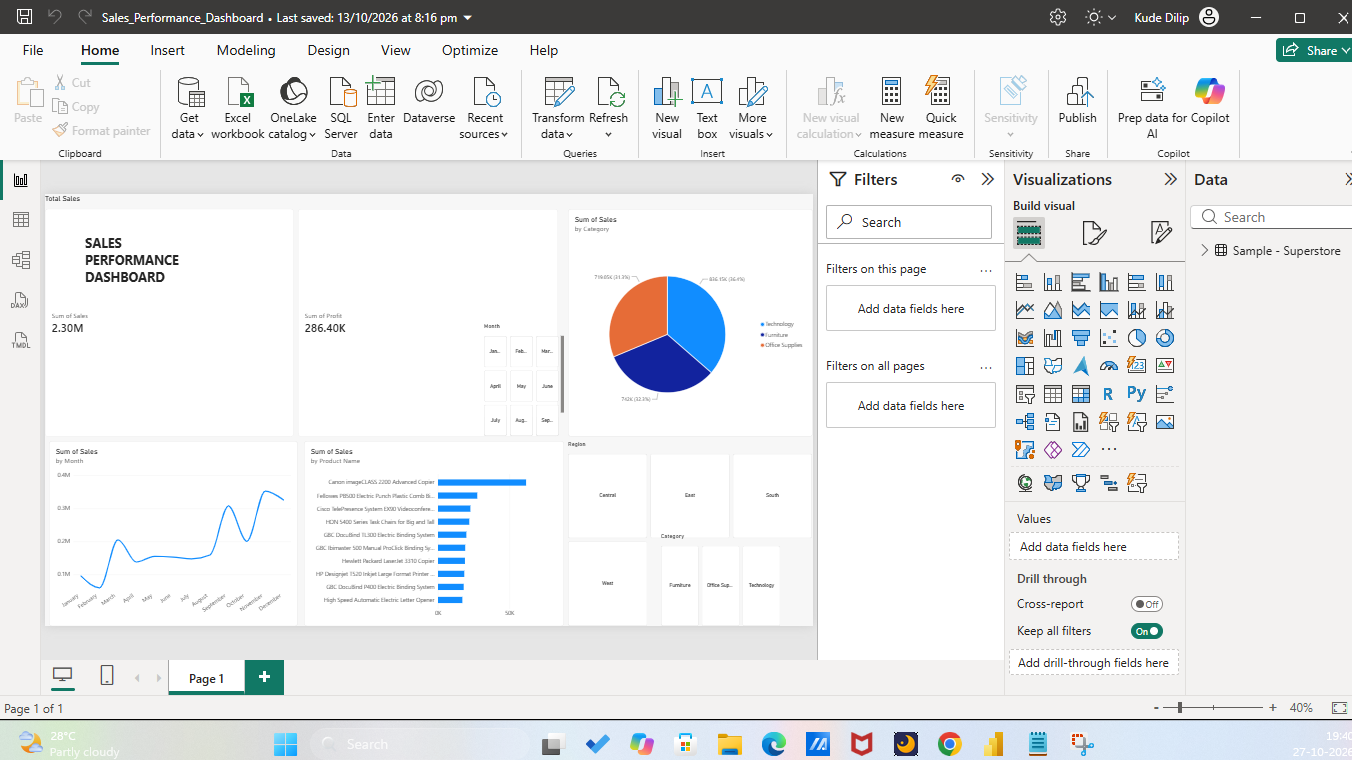

The dashboard page shown, as its layout file describes it:
{"tool":"powerbi","page":{"name":"Page 1","canvas":[1920,1080],"ordinal":0},"visuals":[{"type":"cardVisual","title":"Total Sales","fields":{"Data":["Sum(Sample - Superstore.Sales)"]},"box":[0,0,622.4,607.2],"z":0},{"type":"cardVisual","fields":{"Data":["Sum(Sample - Superstore.Profit)"]},"box":[631.7,38.3,650.1,569.4],"z":1},{"type":"lineChart","fields":{"Category":["Sample - Superstore.Order Date.Variation.Date Hierarchy.Year","Sample - Superstore.Order Date.Variation.Date Hierarchy.Month"],"Y":["Sum(Sample - Superstore.Sales)"]},"box":[10,617,622,463],"z":2},{"type":"clusteredBarChart","fields":{"Category":["Sample - Superstore.Product Name"],"Y":["Sum(Sample - Superstore.Sales)"]},"box":[648,617,650,463],"z":3},{"type":"pieChart","fields":{"Category":["Sample - Superstore.Category"],"Y":["Sum(Sample - Superstore.Sales)"]},"box":[1308,38,612,569],"z":4},{"type":"advancedSlicerVisual","fields":{"Values":["Sample - Superstore.Region"]},"box":[1308,617,612,463],"z":5},{"type":"advancedSlicerVisual","fields":{"Values":["Sample - Superstore.Category"]},"box":[1540,847.5,300,232.5],"z":6},{"type":"advancedSlicerVisual","fields":{"Values":["Sample - Superstore.Order Date.Variation.Date Hierarchy.Month"]},"box":[1097.5,322.5,200,284.3],"z":7},{"type":"textbox","box":[100,100,306.7,300],"z":8}]}

Visuals, with their boxes on the page's 1920x1080 design canvas (x1, y1, x2, y2). These are canvas units, not pixel positions in the 1352x760 screenshot, which may show the page scaled, cropped or inside an application window:
"Total Sales" cardVisual: pyautogui.locateOnScreen(0, 0, 622, 607)
cardVisual - Sum(Sample - Superstore.Profit): pyautogui.locateOnScreen(632, 38, 1282, 608)
lineChart - Sample - Superstore.Order Date.Variation.Date Hierarchy.Year x Sample - Superstore.Order Date.Variation.Date Hierarchy.Month: pyautogui.locateOnScreen(10, 617, 632, 1080)
clusteredBarChart - Sample - Superstore.Product Name x Sum(Sample - Superstore.Sales): pyautogui.locateOnScreen(648, 617, 1298, 1080)
pieChart - Sample - Superstore.Category x Sum(Sample - Superstore.Sales): pyautogui.locateOnScreen(1308, 38, 1920, 607)
advancedSlicerVisual - Sample - Superstore.Region: pyautogui.locateOnScreen(1308, 617, 1920, 1080)
advancedSlicerVisual - Sample - Superstore.Category: pyautogui.locateOnScreen(1540, 848, 1840, 1080)
advancedSlicerVisual - Sample - Superstore.Order Date.Variation.Date Hierarchy.Month: pyautogui.locateOnScreen(1098, 322, 1298, 607)
textbox: pyautogui.locateOnScreen(100, 100, 407, 400)
